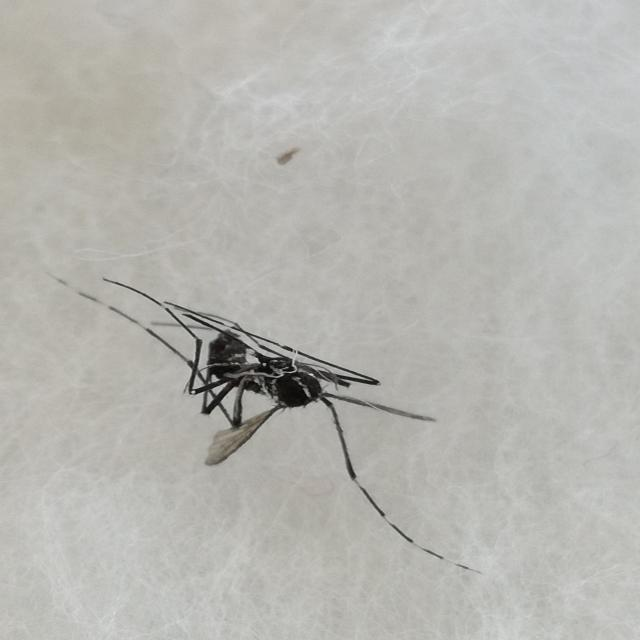albopictus: (50, 259, 480, 586)
